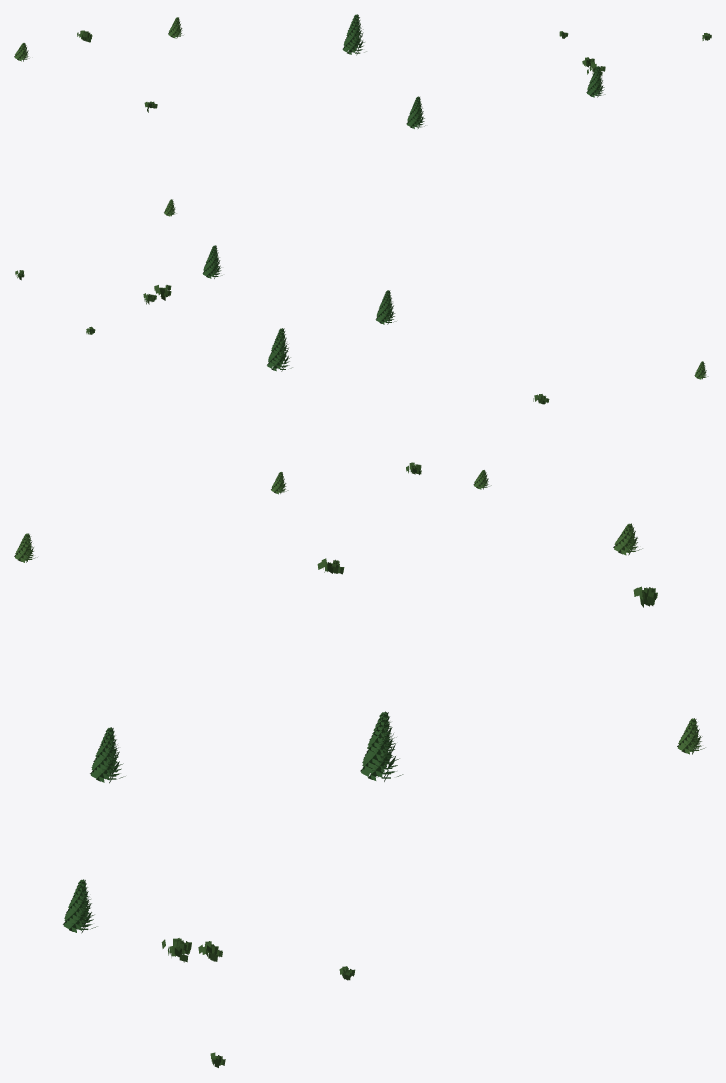
Rendered from arch_canopy_saltwatch_keep.glb.
The picture shows the model from 3 angles, top to bottom: view 1: azimuth 30°, elevation 25°; view 2: azimuth 150°, elevation 25°; view 3: azimuth 270°, elevation 25°; orthographic projection. The views are drawn at different scales.
Visible parts, largest first — view 1: arch_canopy_saltwatch_keep; view 2: arch_canopy_saltwatch_keep; view 3: arch_canopy_saltwatch_keep.
Part boxes in pixels (<box>): arch_canopy_saltwatch_keep: <box>14,14,711,216</box>; arch_canopy_saltwatch_keep: <box>15,245,708,494</box>; arch_canopy_saltwatch_keep: <box>14,523,705,1067</box>.
Bounding box in the file's own units: 115 × 12.05 × 68.07.
